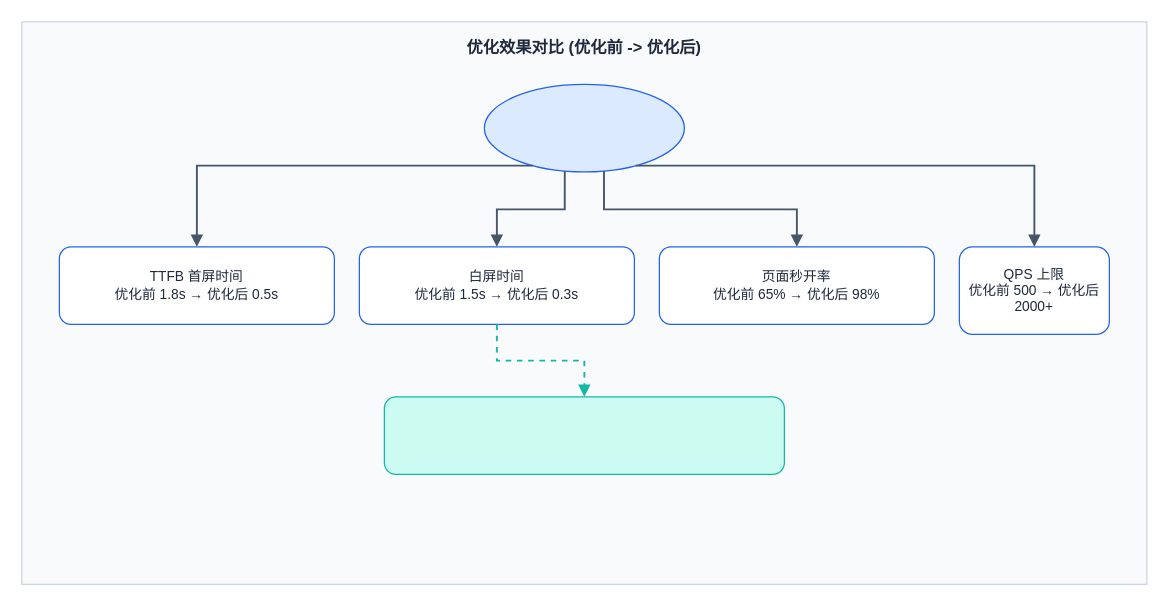
This 1169x606 diagram has some shape labels left out. The shapes that lost their labels are listed below. From the top down, each one's centre as x and y in pixels, then its label:
the point at 583,127: SSR 优化 效果对比
the point at 583,435: 系统整体性能 相对于 SPA 提升 80% 以上
